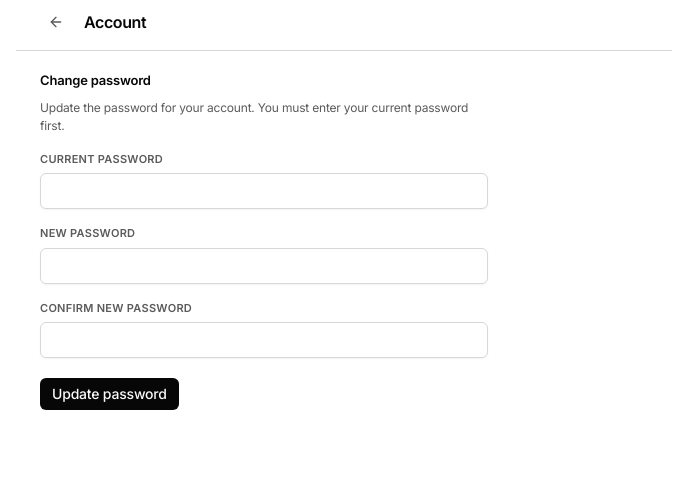
Test case: AccountSettings › rejects when new password equals current password
The image size is (689, 481).
Type "samesecret" into the password field labelled "Current password" at (264, 191), box [40,173,488,209]
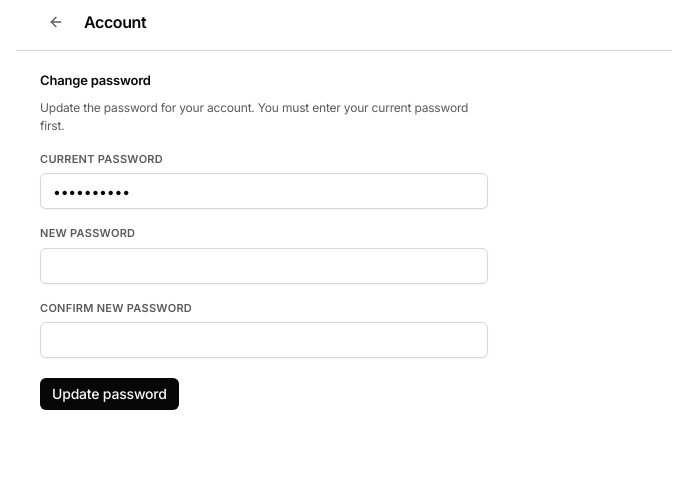
Type "samesecret" into the password field labelled "New password" at (264, 266), box [40,248,488,284]
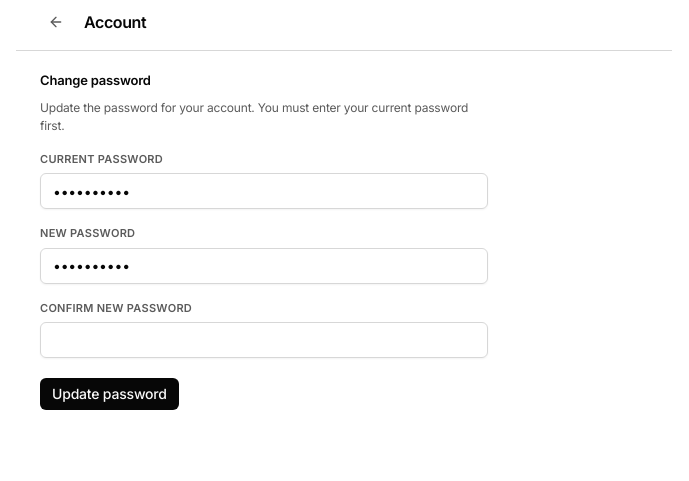
Type "samesecret" into the password field labelled "Confirm new password" at (264, 340), box [40,322,488,358]
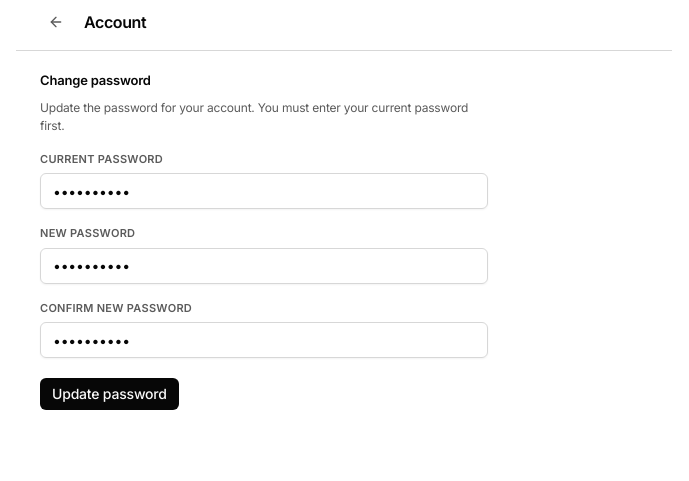
Submit the form, box [40,71,488,410]
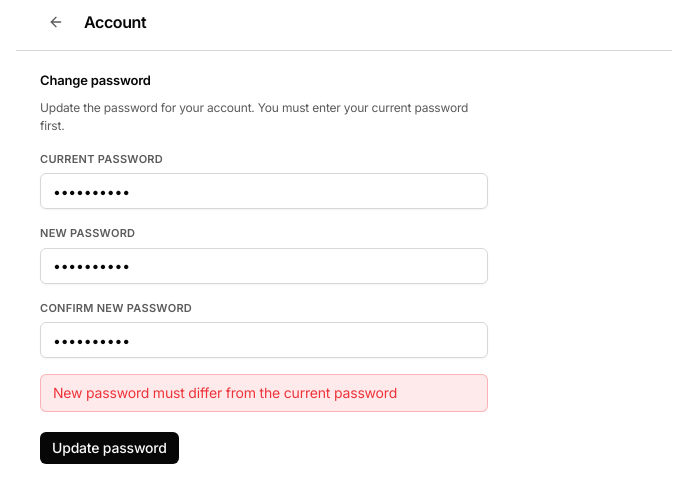
Check: the text "New password must differ from the current password" is shown, box [40,374,488,412]
